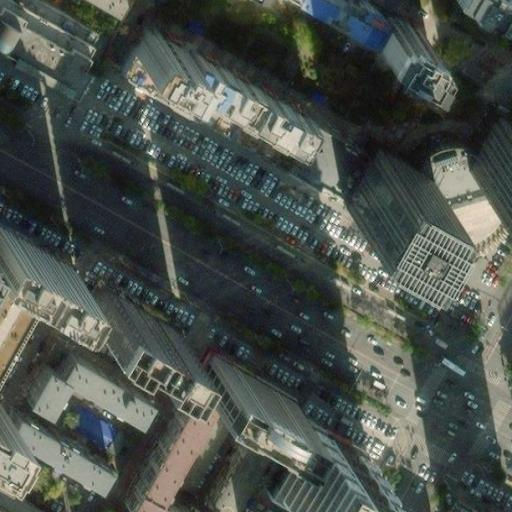building: (400, 144, 512, 256), (241, 119, 373, 204), (264, 414, 361, 512), (341, 151, 434, 245), (77, 290, 173, 364), (0, 10, 84, 94), (172, 51, 268, 124), (187, 350, 284, 420), (47, 350, 140, 421), (122, 401, 190, 490), (0, 0, 90, 58), (0, 232, 72, 298), (463, 113, 512, 201), (368, 11, 433, 67), (130, 26, 187, 75), (255, 97, 313, 145), (13, 367, 53, 413), (0, 481, 53, 512)
